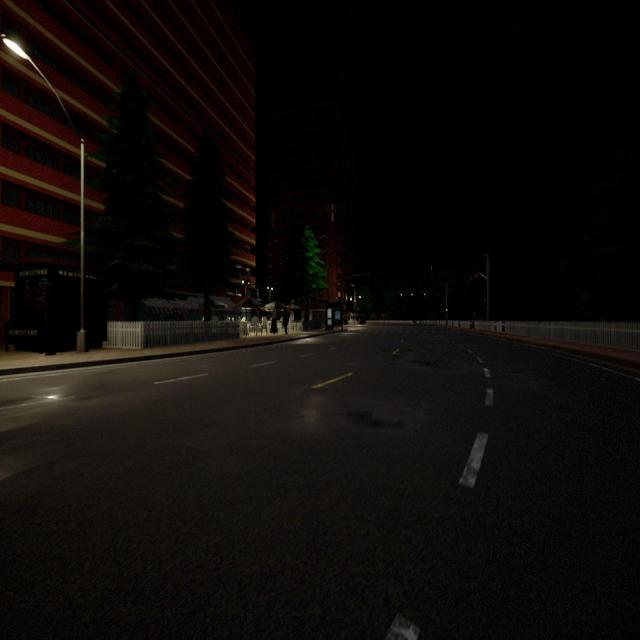Pedestrian: (281, 305, 290, 336)
traffic_light: (484, 298, 487, 303), (445, 308, 448, 313), (475, 274, 478, 278), (400, 292, 402, 297), (411, 292, 413, 297), (424, 292, 426, 297), (470, 277, 472, 280)
